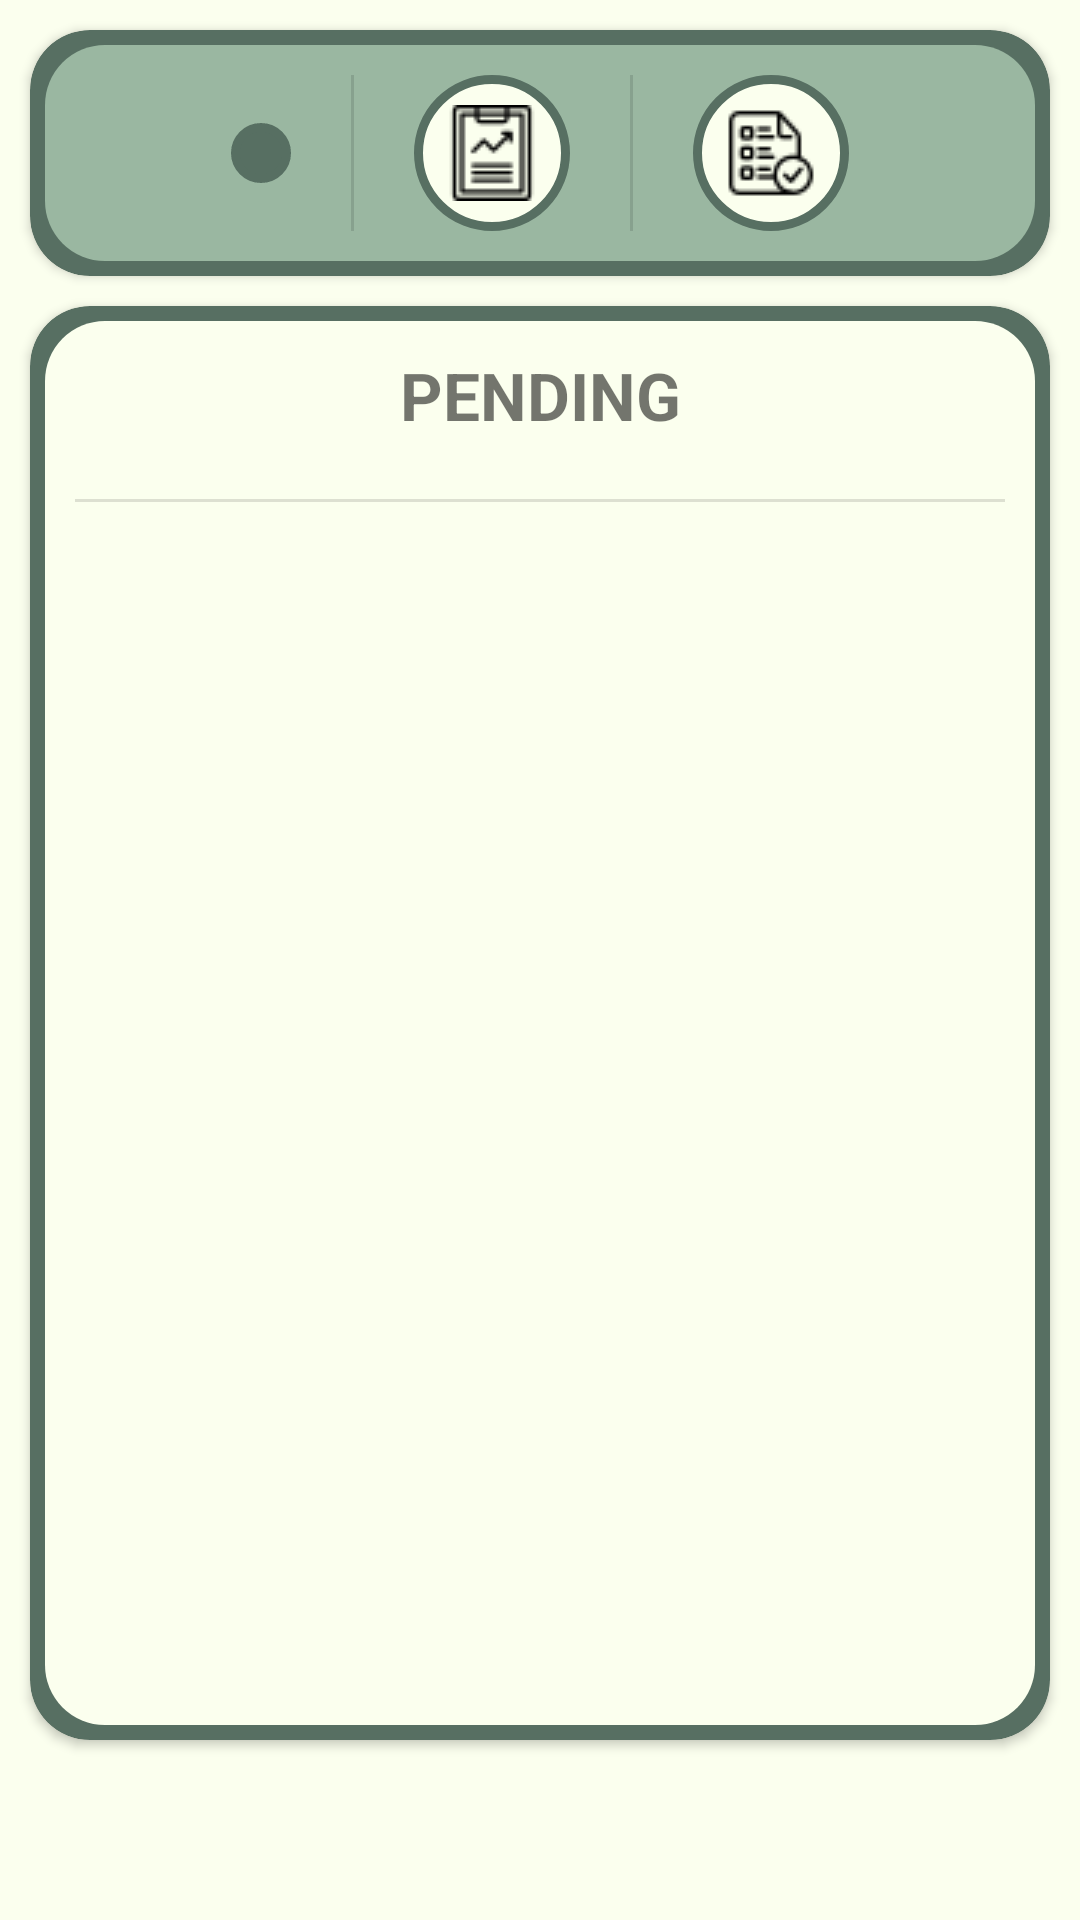

Point at icon controls on the screen. Image size 1080*1920, points as (x,y).
complecomp: (771,153)
inprog: (492,153)
